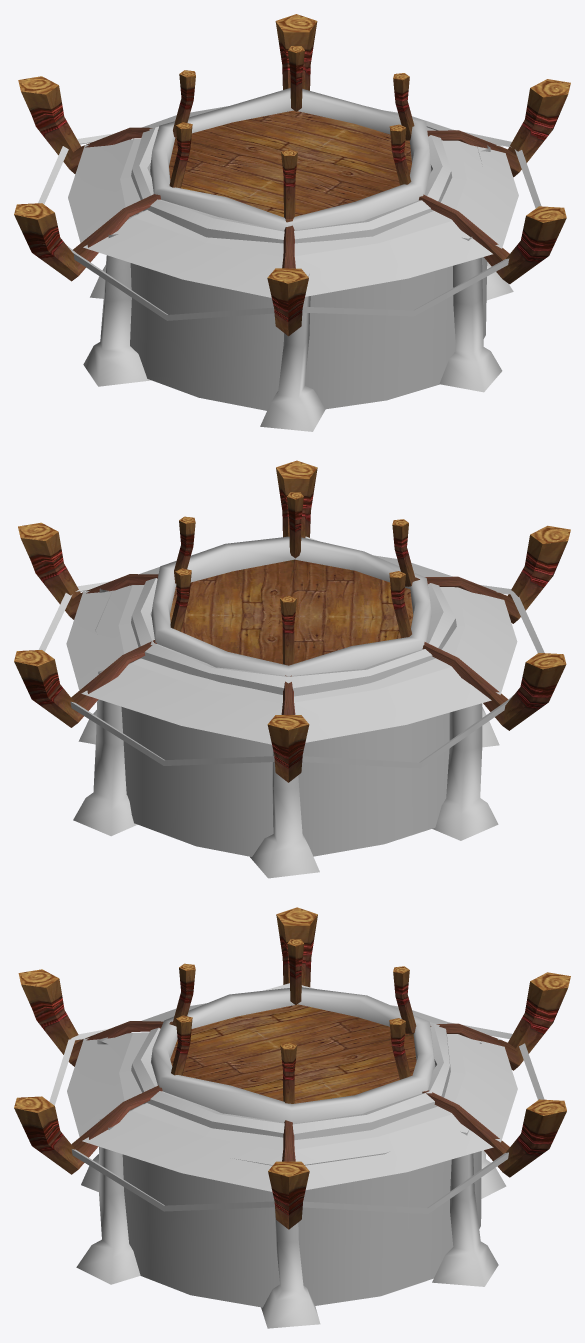
Rendered from environment_Building_cunzhuang_006_a.FBX.
3 views of the same model, one above another, from view 1: azimuth 30°, elevation 25°; view 2: azimuth 150°, elevation 25°; view 3: azimuth 270°, elevation 25° (orthographic).
Visible parts, largest first — view 1: environment_Building_cunzhuang_006_b, environment_Building_cunzhuang_006_c, environment_Building_cunzhuang_006_a, environment_Building_cunzhuang_006_g, environment_Building_cunzhuang_006_d, environment_Building_cunzhuang_006_f, environment_Building_cunzhuang_006_e; view 2: environment_Building_cunzhuang_006_b, environment_Building_cunzhuang_006_c, environment_Building_cunzhuang_006_a, environment_Building_cunzhuang_006_g, environment_Building_cunzhuang_006_d, environment_Building_cunzhuang_006_f, environment_Building_cunzhuang_006_e; view 3: environment_Building_cunzhuang_006_b, environment_Building_cunzhuang_006_c, environment_Building_cunzhuang_006_a, environment_Building_cunzhuang_006_g, environment_Building_cunzhuang_006_d, environment_Building_cunzhuang_006_f, environment_Building_cunzhuang_006_e.
Part boxes in pixels (left/top/right/bottom): environment_Building_cunzhuang_006_b: left=68, top=88, right=518, bottom=297; environment_Building_cunzhuang_006_c: left=130, top=126, right=487, bottom=410; environment_Building_cunzhuang_006_a: left=14, top=14, right=570, bottom=336; environment_Building_cunzhuang_006_g: left=169, top=110, right=411, bottom=217; environment_Building_cunzhuang_006_d: left=83, top=145, right=513, bottom=431; environment_Building_cunzhuang_006_f: left=131, top=126, right=452, bottom=243; environment_Building_cunzhuang_006_e: left=38, top=129, right=541, bottom=320; environment_Building_cunzhuang_006_b: left=66, top=536, right=517, bottom=744; environment_Building_cunzhuang_006_c: left=95, top=573, right=449, bottom=856; environment_Building_cunzhuang_006_a: left=14, top=460, right=570, bottom=782; environment_Building_cunzhuang_006_g: left=170, top=559, right=413, bottom=664; environment_Building_cunzhuang_006_d: left=73, top=588, right=499, bottom=878; environment_Building_cunzhuang_006_f: left=131, top=578, right=456, bottom=696; environment_Building_cunzhuang_006_e: left=38, top=536, right=544, bottom=768; environment_Building_cunzhuang_006_b: left=67, top=987, right=517, bottom=1191; environment_Building_cunzhuang_006_c: left=122, top=1104, right=481, bottom=1307; environment_Building_cunzhuang_006_a: left=14, top=907, right=570, bottom=1229; environment_Building_cunzhuang_006_g: left=170, top=1004, right=416, bottom=1103; environment_Building_cunzhuang_006_d: left=76, top=1037, right=506, bottom=1328; environment_Building_cunzhuang_006_f: left=131, top=1022, right=450, bottom=1140; environment_Building_cunzhuang_006_e: left=49, top=983, right=544, bottom=1213.
Size of the model in its own units: 932 by 376 by 813.
